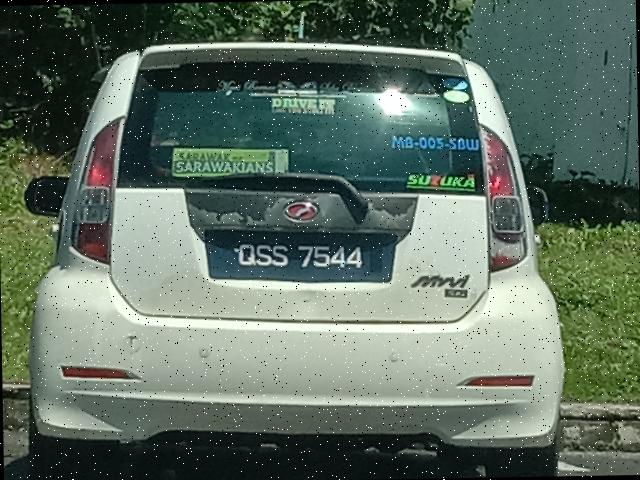License_Plate: (205, 228, 401, 287)
car: (16, 29, 573, 480)
